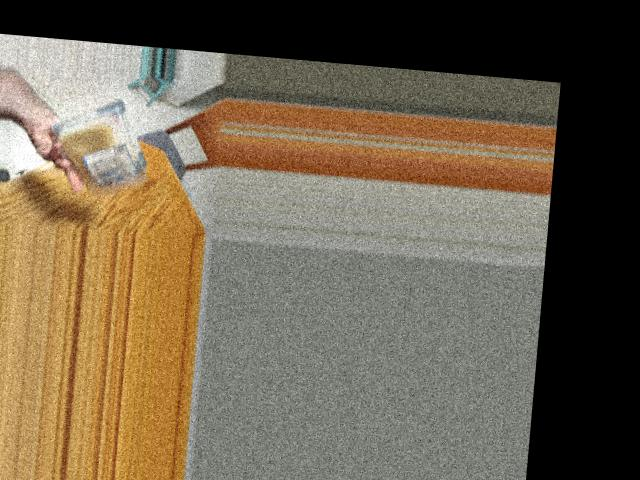cheese: (50, 101, 159, 189)
